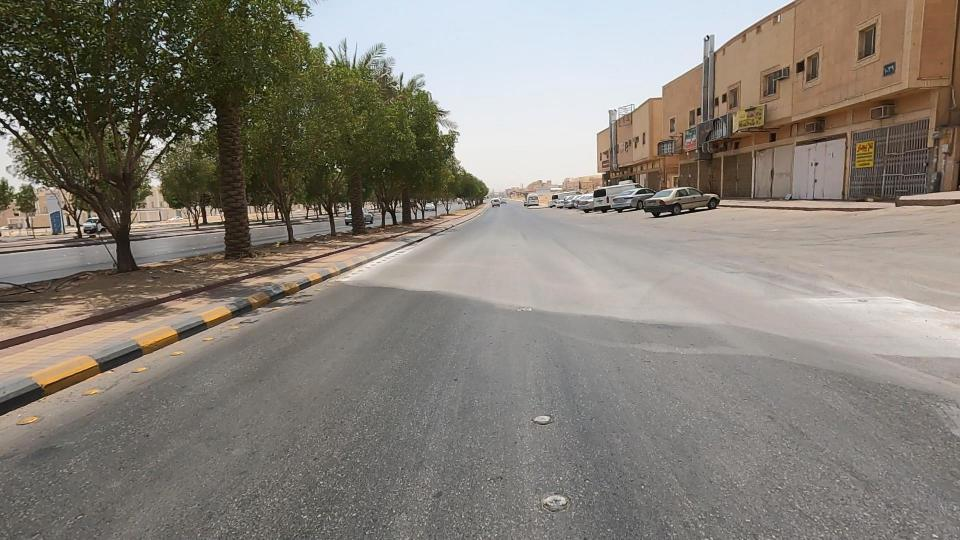BAD_BILLBOARD: (675, 100, 760, 163), (627, 118, 699, 185)
